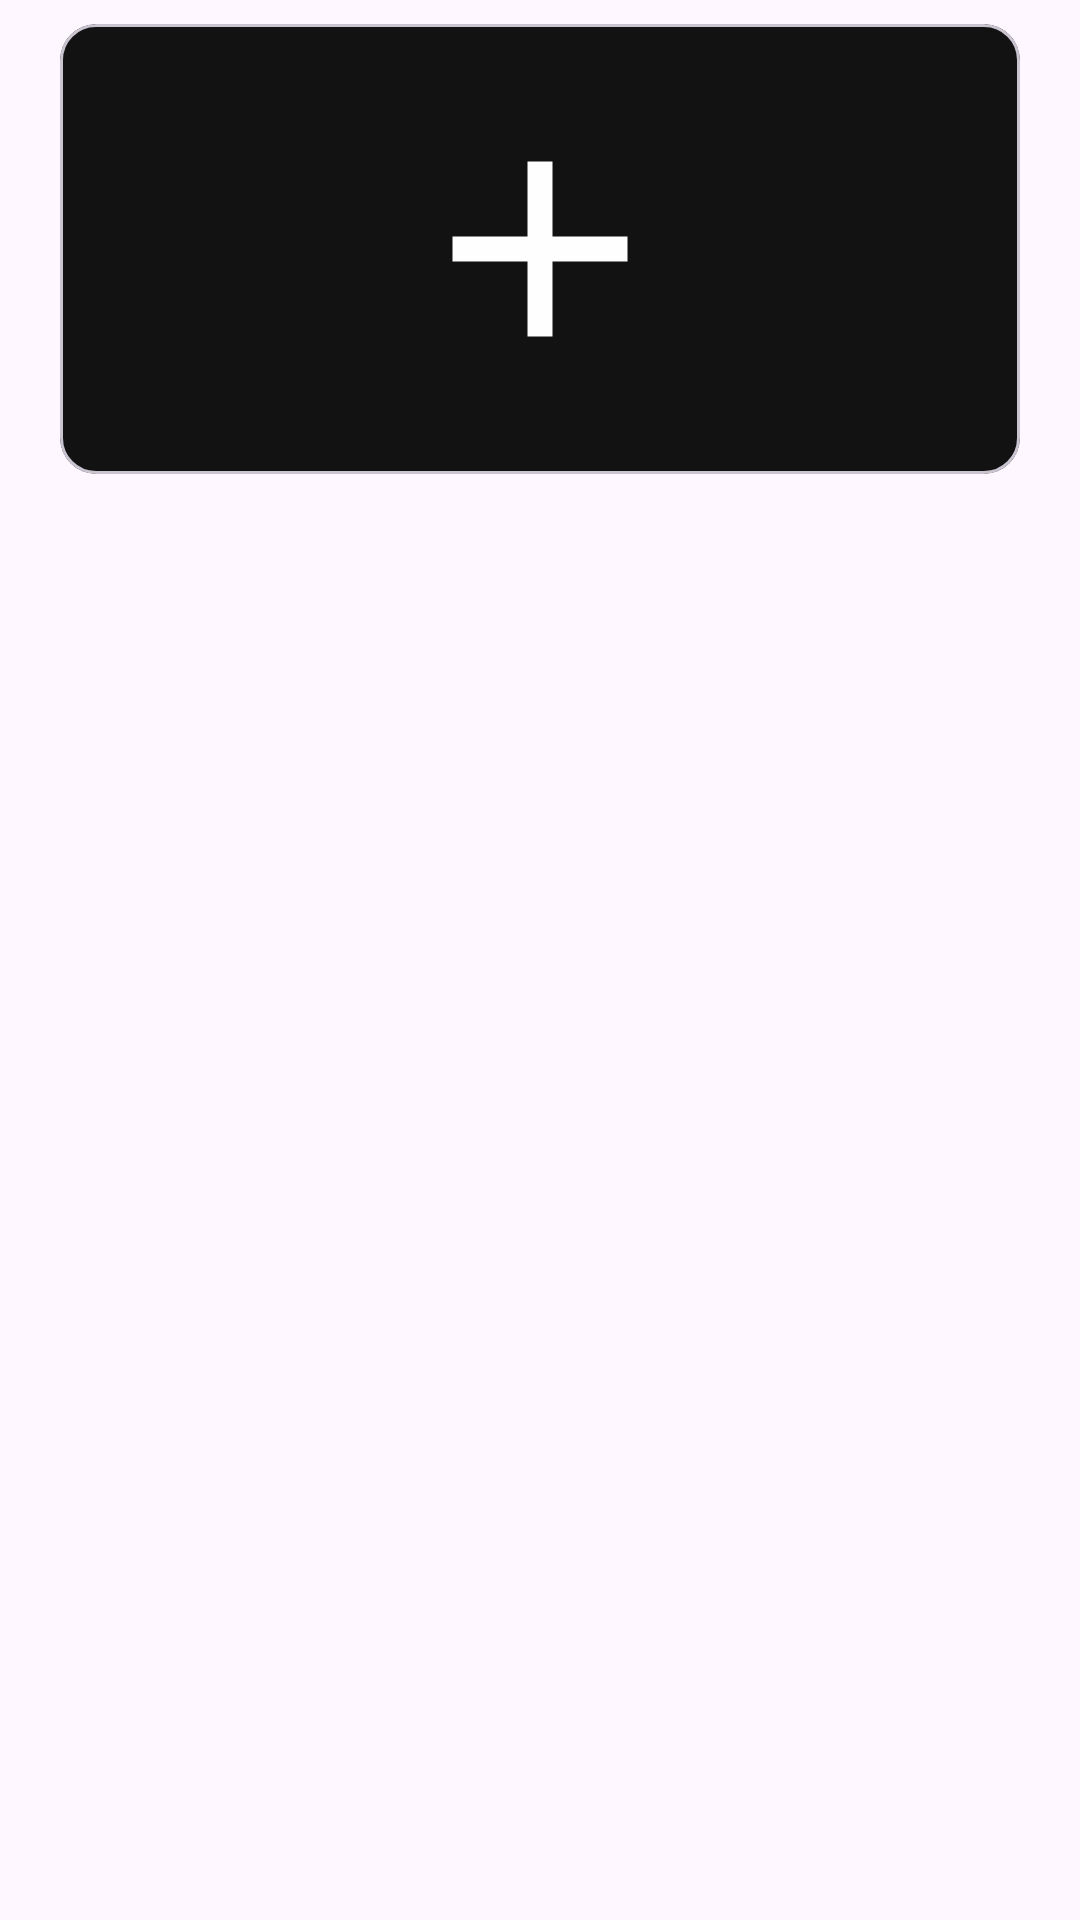

Icon click points for this 1080px x 1920px phone screenshot, format point (x, y):
add: point (540, 249)
